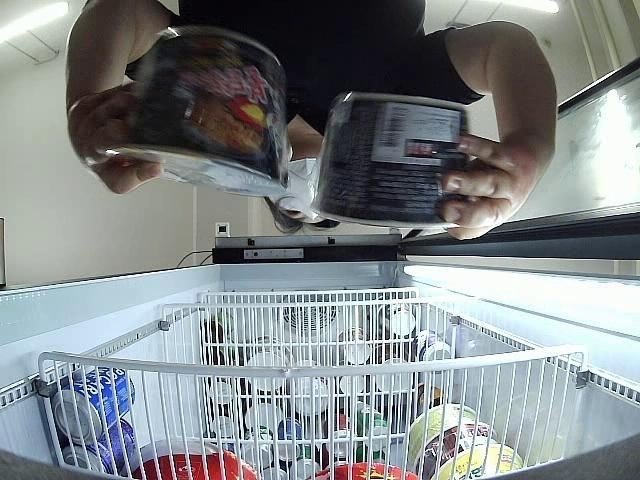07_buldak_L: (102, 30, 288, 198), (308, 88, 471, 228)
